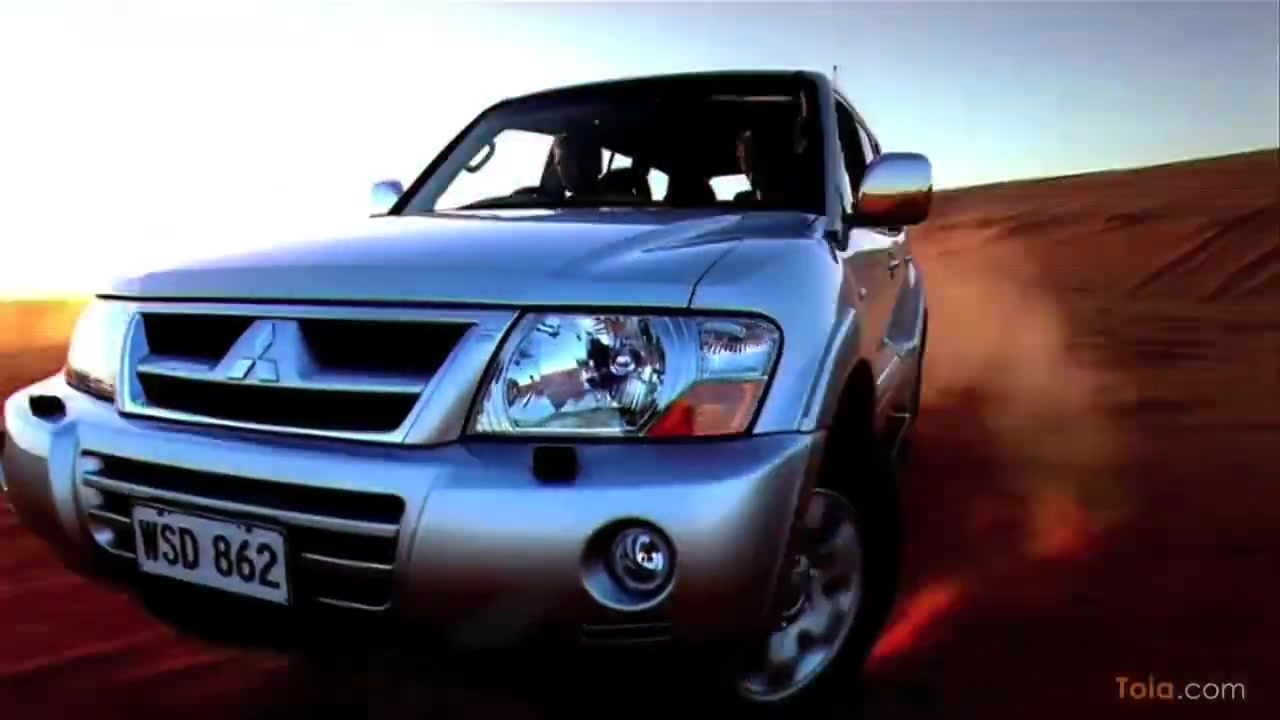car: (5, 68, 937, 712)
